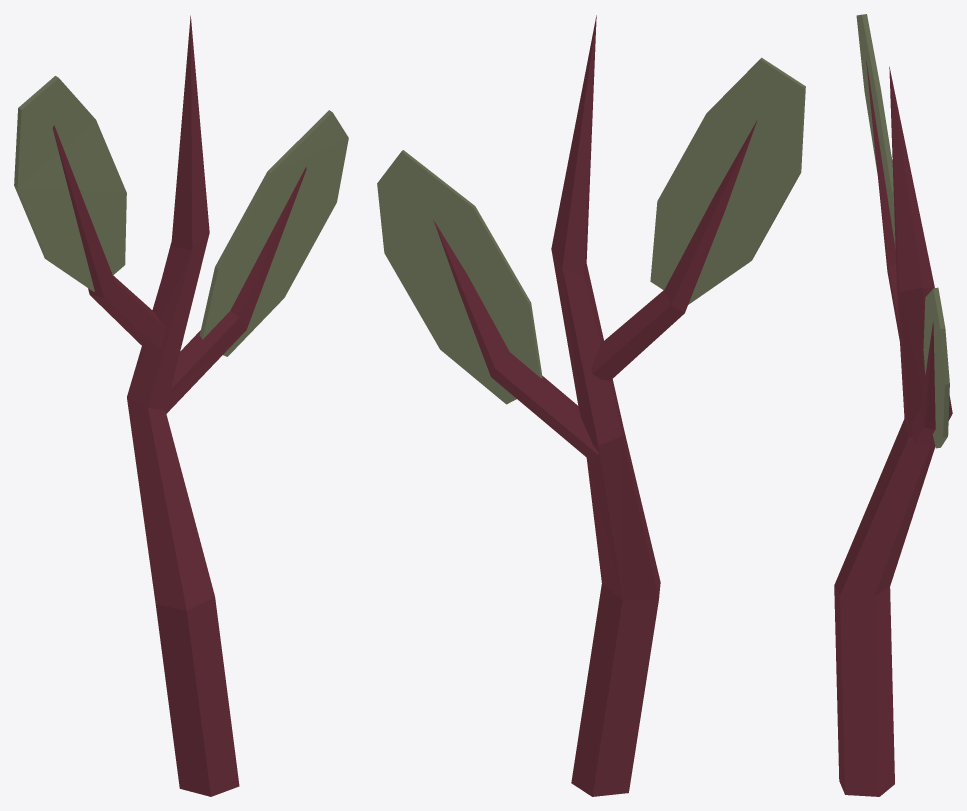
The model's file is Beet_1.glb.
The picture shows the model from 3 angles, left to right: view 1: azimuth 30°, elevation 25°; view 2: azimuth 150°, elevation 25°; view 3: azimuth 270°, elevation 25°; orthographic projection. The views are drawn at different scales.
Visible parts, largest first — view 1: Beet_1; view 2: Beet_1; view 3: Beet_1.
Part boxes in pixels (left/top/right/bottom): Beet_1: left=14, top=15, right=348, bottom=796; Beet_1: left=377, top=15, right=805, bottom=796; Beet_1: left=834, top=14, right=952, bottom=796.
Size of the model in its own units: 0.334 by 0.6527 by 0.0976.
